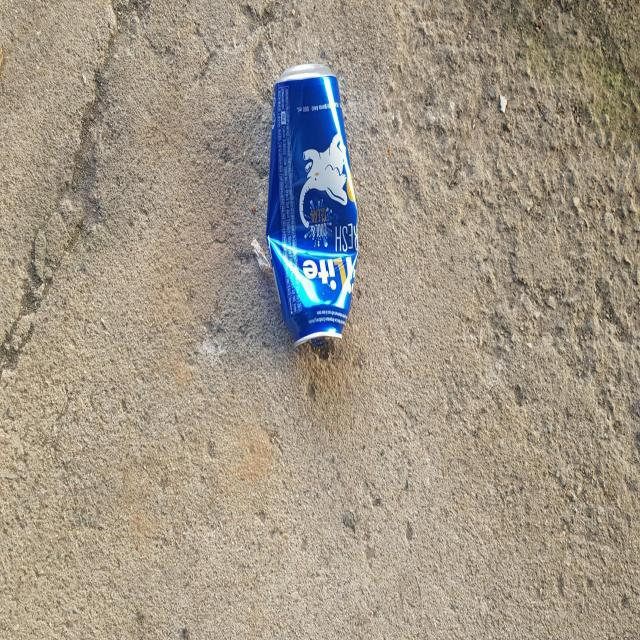can: (266, 62, 359, 344)
